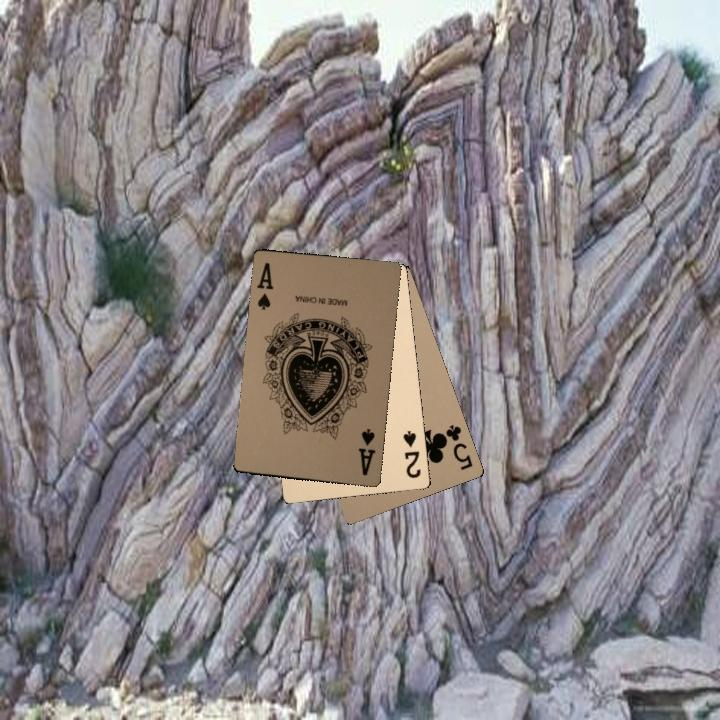2s: (399, 427, 423, 480)
5c: (439, 420, 475, 473)
As: (355, 425, 378, 478), (253, 258, 276, 311)
